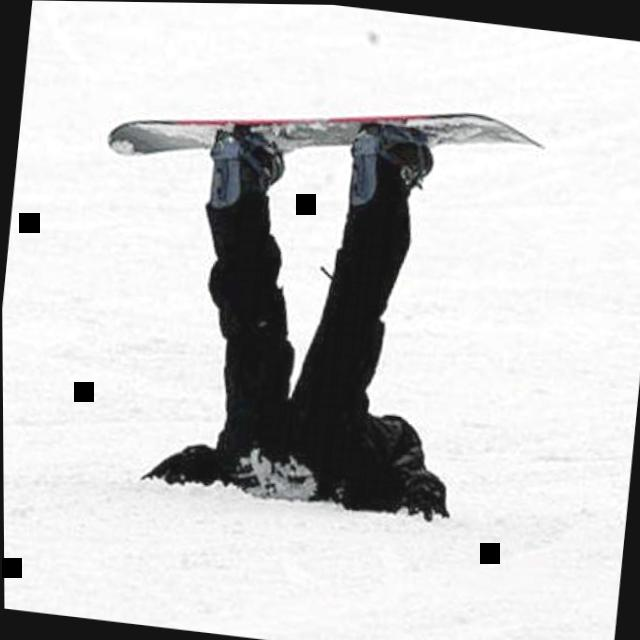Fall-Detected: (114, 69, 516, 519)
